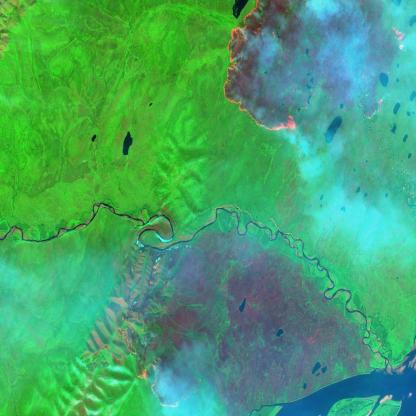fire: (220, 0, 415, 139), (117, 255, 165, 412)
